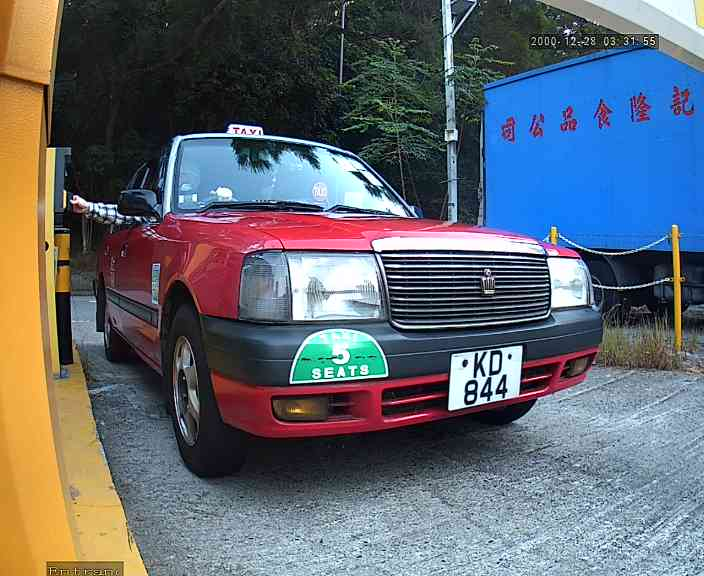taxi: (74, 123, 607, 501)
taxi_mark: (284, 322, 395, 393)
